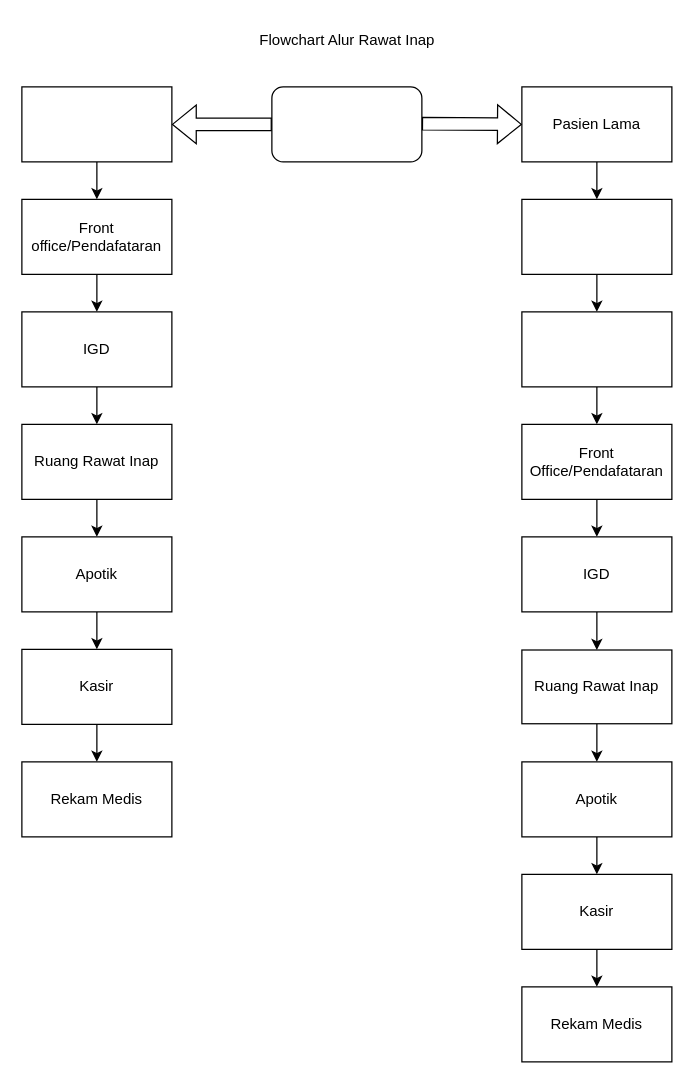
Some shapes in this 694 by 1084 pixel diagram are drawn without their labels. The shapes that lost their labels are listed below. From the top down, each one's centre as x and y in pixels, then its label:
At (x=96, y=124): "Pasien Baru".
At (x=346, y=124): "Pasien Datang".
At (x=596, y=236): "Front office/Pendaftaran".
At (x=596, y=349): "Tracer dan Buku Ekspedisi".
